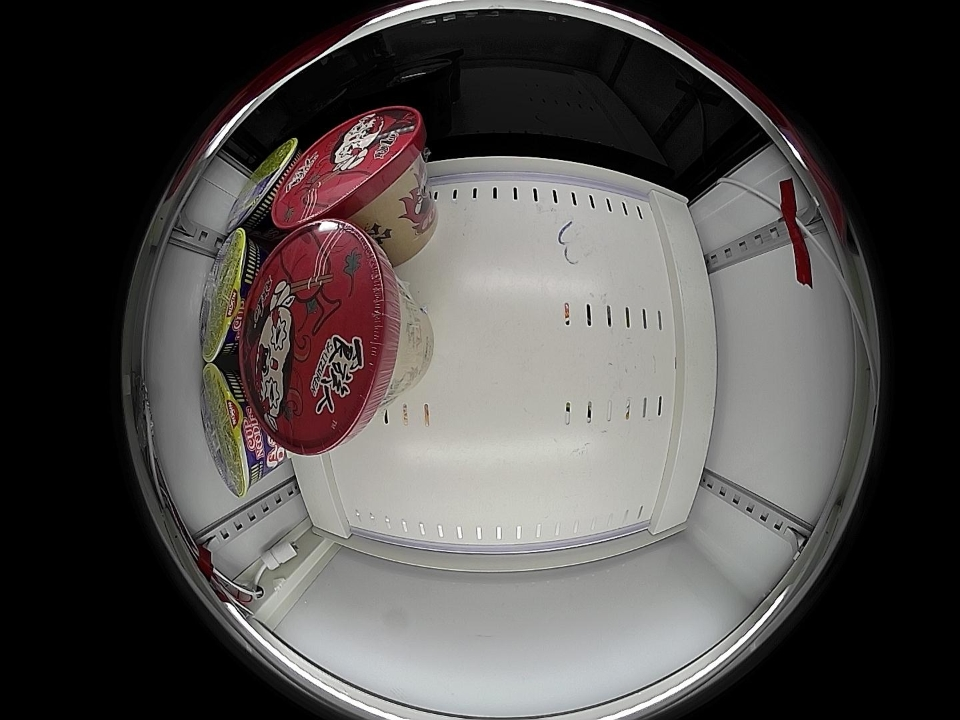heweidao: (200, 362, 269, 499), (199, 228, 265, 362), (225, 139, 299, 236)
suanlafen: (242, 219, 405, 456), (272, 106, 426, 227)
